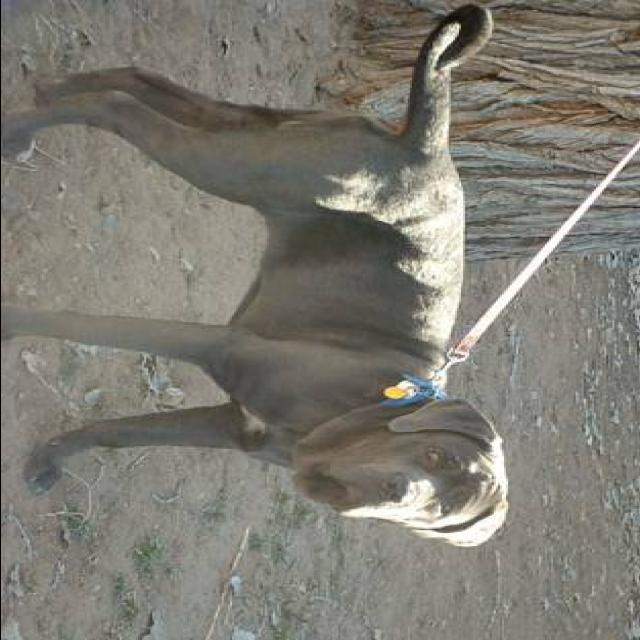dog: (3, 0, 565, 550)
